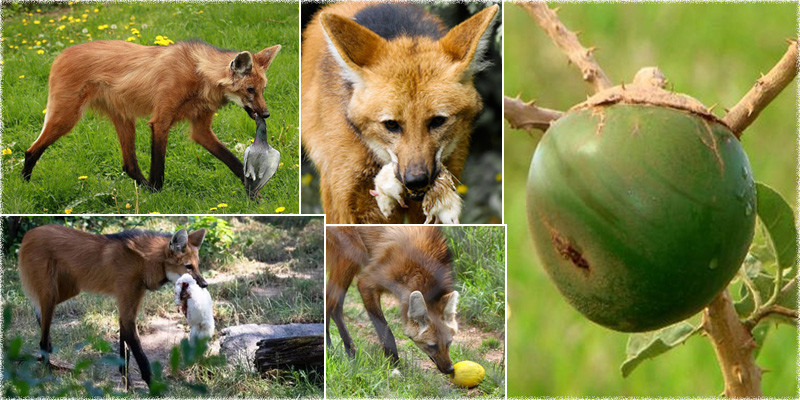LoboGuara: (14, 36, 285, 188), (11, 223, 216, 374), (318, 9, 480, 193), (340, 233, 470, 374)
